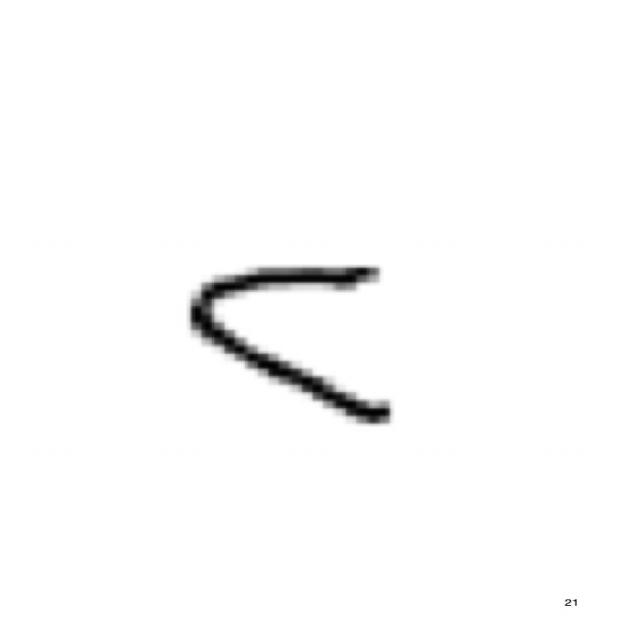2 -two-: (175, 251, 412, 441)
